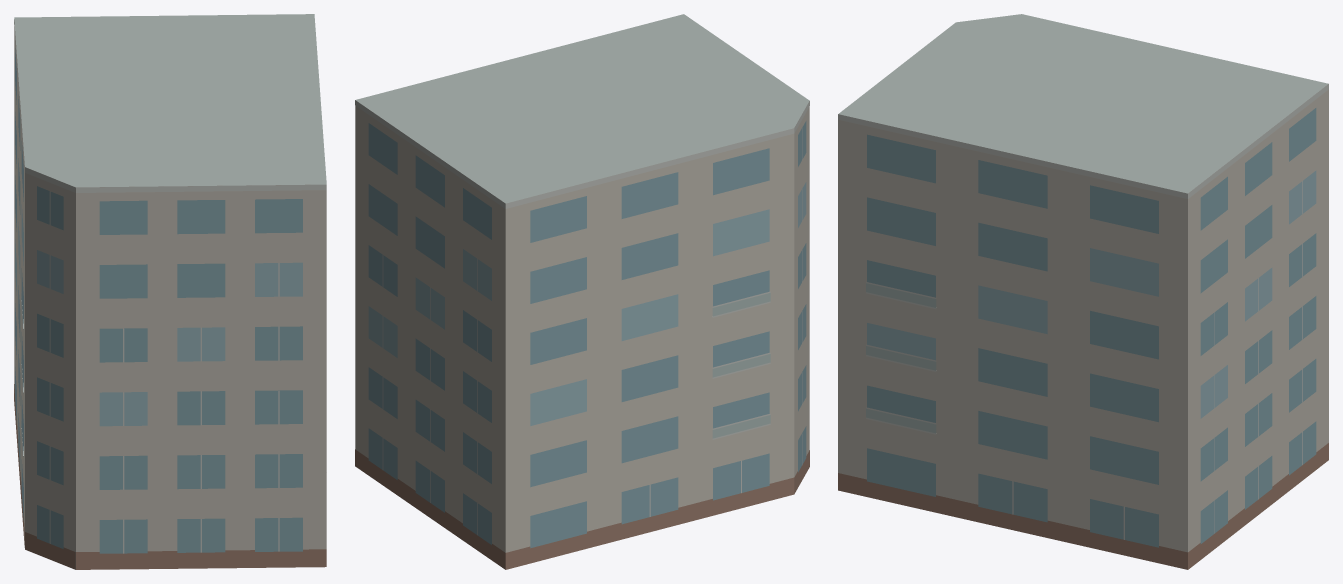
The model's file is survey-upis-32873650.glb.
3 renders of one model, left to right at view 1: azimuth 30°, elevation 25°; view 2: azimuth 150°, elevation 25°; view 3: azimuth 270°, elevation 25°, orthographic. The views are drawn at different scales.
Parts seen in each view (by area): view 1: survey-upis-32873650.tmp; view 2: survey-upis-32873650.tmp; view 3: survey-upis-32873650.tmp.
Part boxes in pixels (bbox=[...]): survey-upis-32873650.tmp: bbox=[14, 14, 326, 569]; survey-upis-32873650.tmp: bbox=[355, 14, 809, 569]; survey-upis-32873650.tmp: bbox=[838, 14, 1328, 569].
Size of the model in its own units: 16.89 by 16.5 by 19.51.
